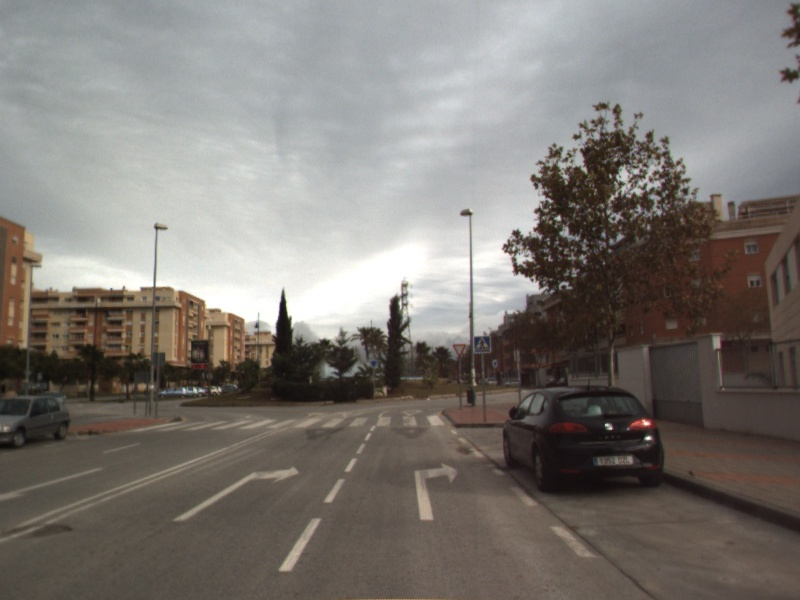RIGHT: (171, 464, 301, 523), (412, 460, 461, 522)
